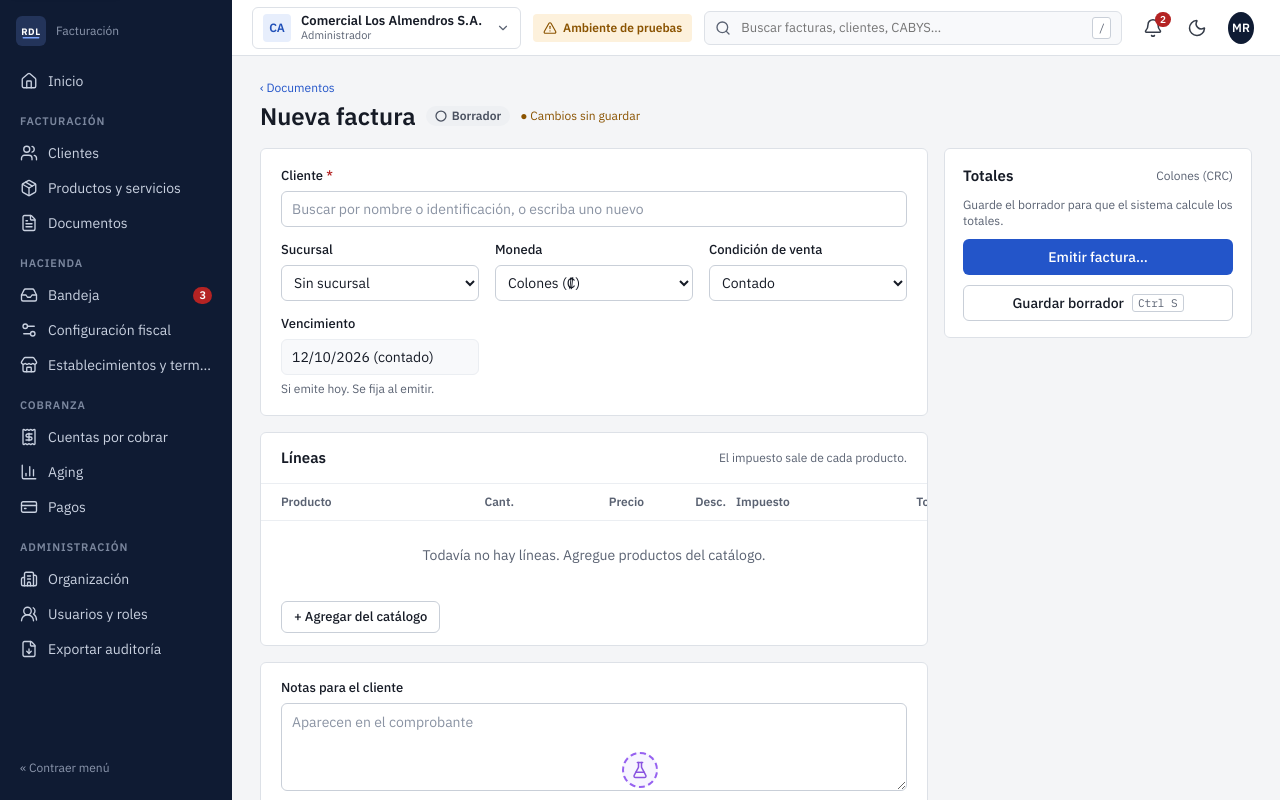
Scenario: pantalla 13 · borrador de factura › sin cliente ni líneas: la lista de lo que falta
Check: the heading "Nueva factura" is shown, box 260,100 -> 416,132
Click the button "Emitir factura…" at (1098, 257), box 963,239 -> 1233,275
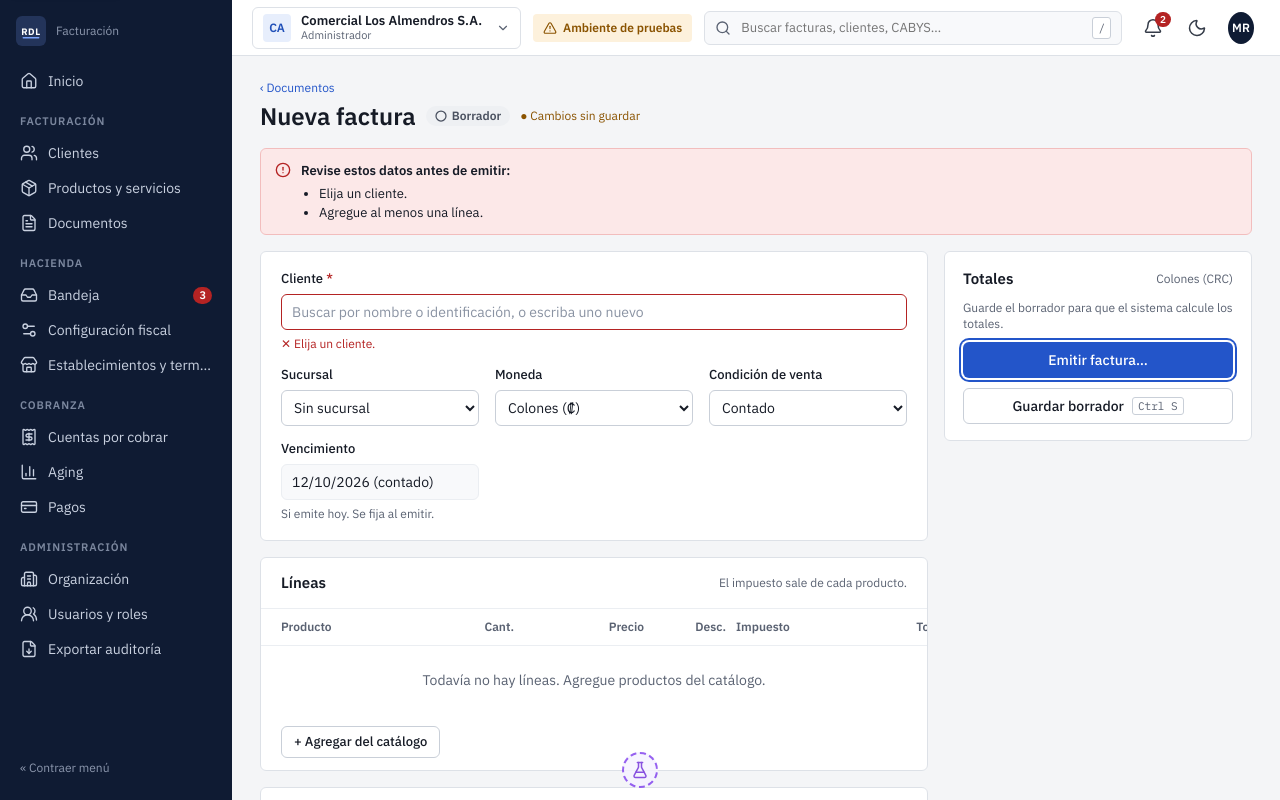
Check: the text "Revise estos datos antes de emitir:" is shown, box 301,161 -> 510,180
Check: the list item "Elija un cliente." is shown, box 319,185 -> 407,202
Check: the list item "Agregue al menos una línea." is shown, box 319,203 -> 510,222
